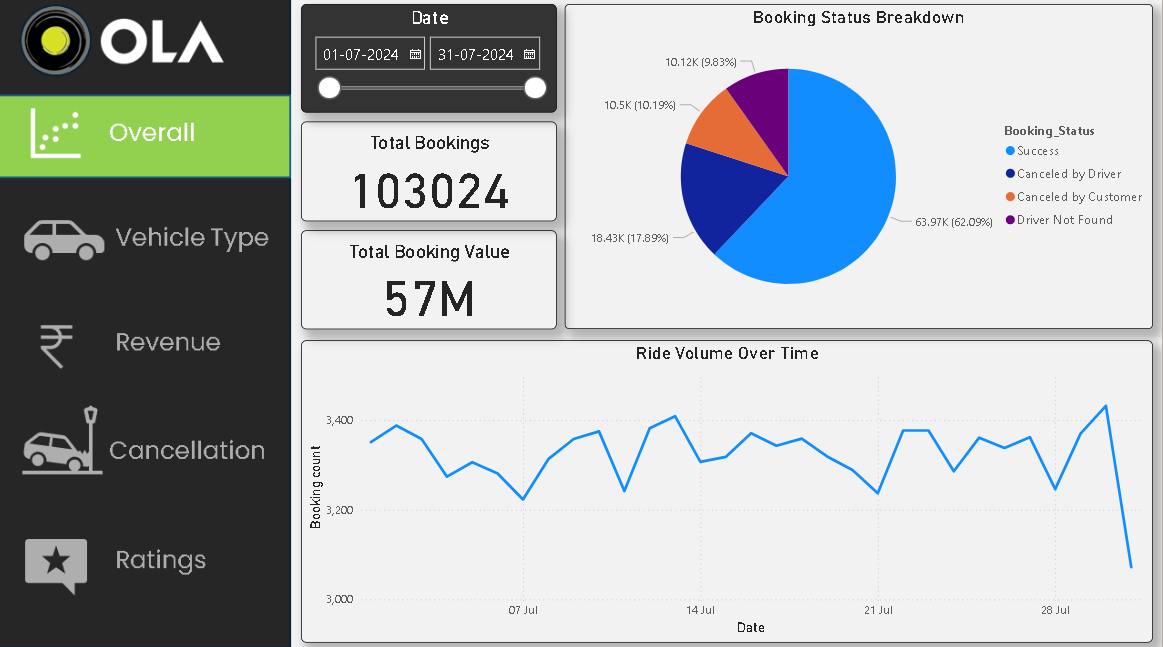

What the dashboard file says about the page in this screenshot:
{"tool":"powerbi","page":{"name":"Overall","canvas":[1280,720],"ordinal":0},"visuals":[{"type":"actionButton","box":[0,217.2,323.3,95.3],"z":0},{"type":"actionButton","box":[0,331.8,323.3,95.3],"z":1000},{"type":"actionButton","box":[0,452.4,323.3,95.3],"z":2000},{"type":"actionButton","box":[0,574.3,323.3,95.3],"z":3000},{"type":"lineChart","title":"Ride Volume Over Time","fields":{"Category":["July.Date"],"Y":["CountNonNull(July.Booking_ID)"]},"box":[335.4,380,935,331.8],"z":4000},{"type":"pieChart","title":"Booking Status Breakdown","fields":{"Category":["July.Booking_Status"],"Y":["CountNonNull(July.Booking_Status)"]},"box":[624.9,10.9,645.4,357.1],"z":5000},{"type":"slicer","title":"Date","fields":{"Values":["July.Date"]},"box":[335.4,10.9,281.1,119.4],"z":6000},{"type":"card","title":"Total Bookings","fields":{"Values":["CountNonNull(July.Booking_ID)"]},"box":[335.4,139.9,281.1,109.8],"z":7000},{"type":"card","title":"Total Booking Value","fields":{"Values":["Sum(July.Booking_Value)"]},"box":[335.4,259.4,281.1,108.6],"z":8000}]}

Visuals, with their boxes in screenshot pixels (x1, y1, x2, y2), scaled from the page's 1280x720 canvas onto the 1163x647 screenshot:
actionButton: [0, 195, 294, 281]
actionButton: [0, 298, 294, 384]
actionButton: [0, 407, 294, 492]
actionButton: [0, 516, 294, 602]
"Ride Volume Over Time" lineChart: [305, 341, 1154, 640]
"Booking Status Breakdown" pieChart: [568, 10, 1154, 331]
"Date" slicer: [305, 10, 560, 117]
"Total Bookings" card: [305, 126, 560, 224]
"Total Booking Value" card: [305, 233, 560, 331]
